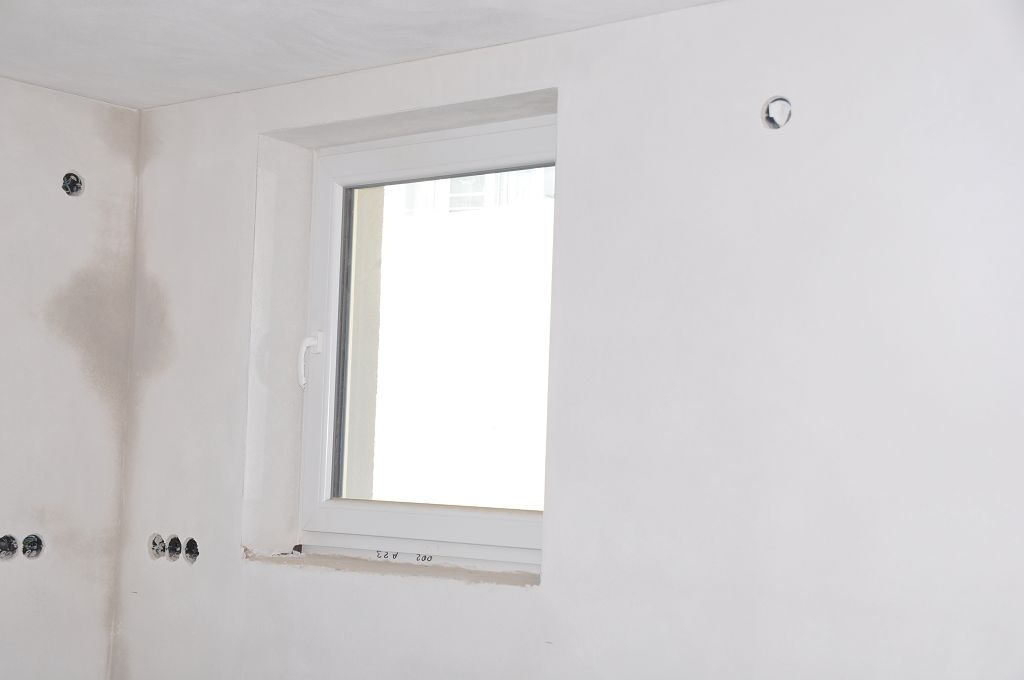windows: (264, 138, 553, 579)
